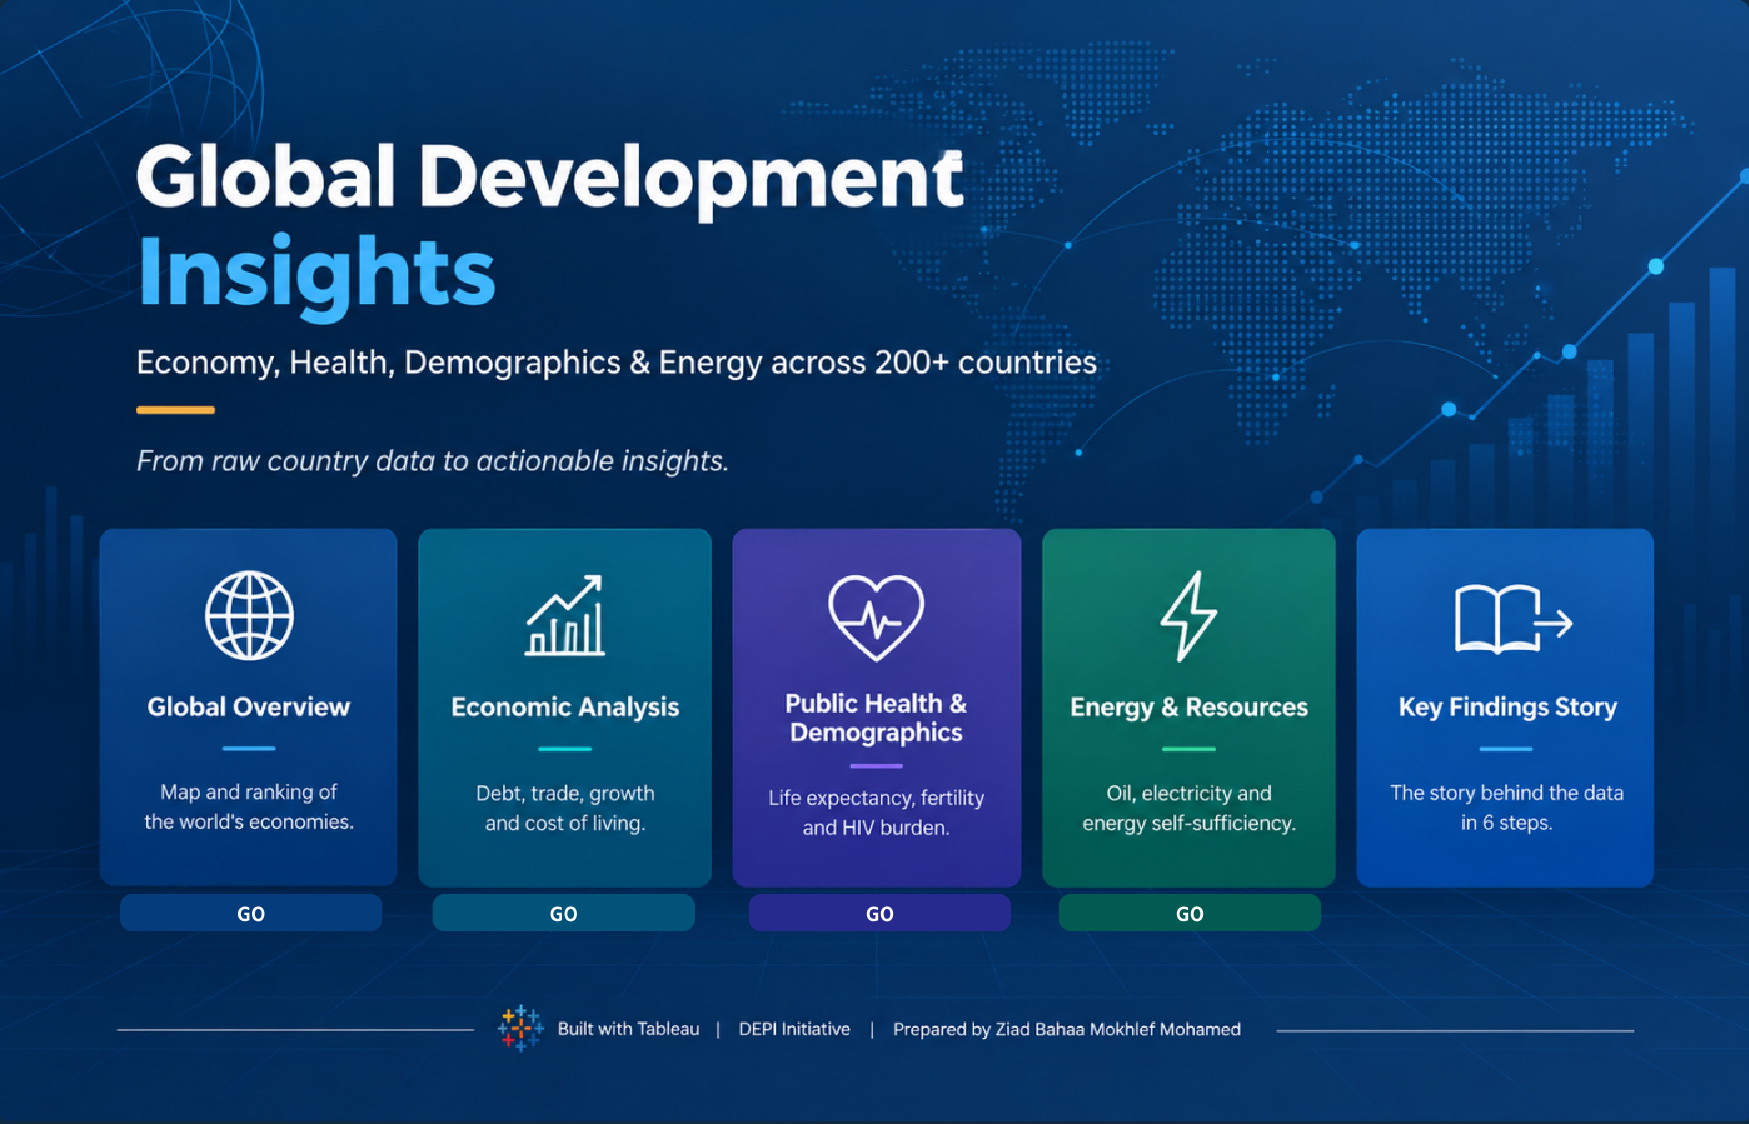

This screenshot's page, from the dashboard's own definition file:
{"tool":"tableau","page":{"name":"HOME","canvas":[1400,900],"ordinal":3},"visuals":[{"type":"image","param":"Image/Global Development Insights Dashboard.png","box":[0,0,1400,900]},{"type":"dashboard-object","box":[96,715,210,30]},{"type":"dashboard-object","box":[346,715,210,30]},{"type":"dashboard-object","box":[599,715,210,30]},{"type":"dashboard-object","box":[847,715,210,30]}]}

Visuals, with their boxes in screenshot pixels (x1, y1, x2, y2), scaled from the page's 1400x900 canvas onto the 1749x1124 screenshot:
image: <box>0,0,1748,1123</box>
dashboard-object: <box>120,893,382,930</box>
dashboard-object: <box>432,893,695,930</box>
dashboard-object: <box>748,893,1011,930</box>
dashboard-object: <box>1058,893,1320,930</box>
